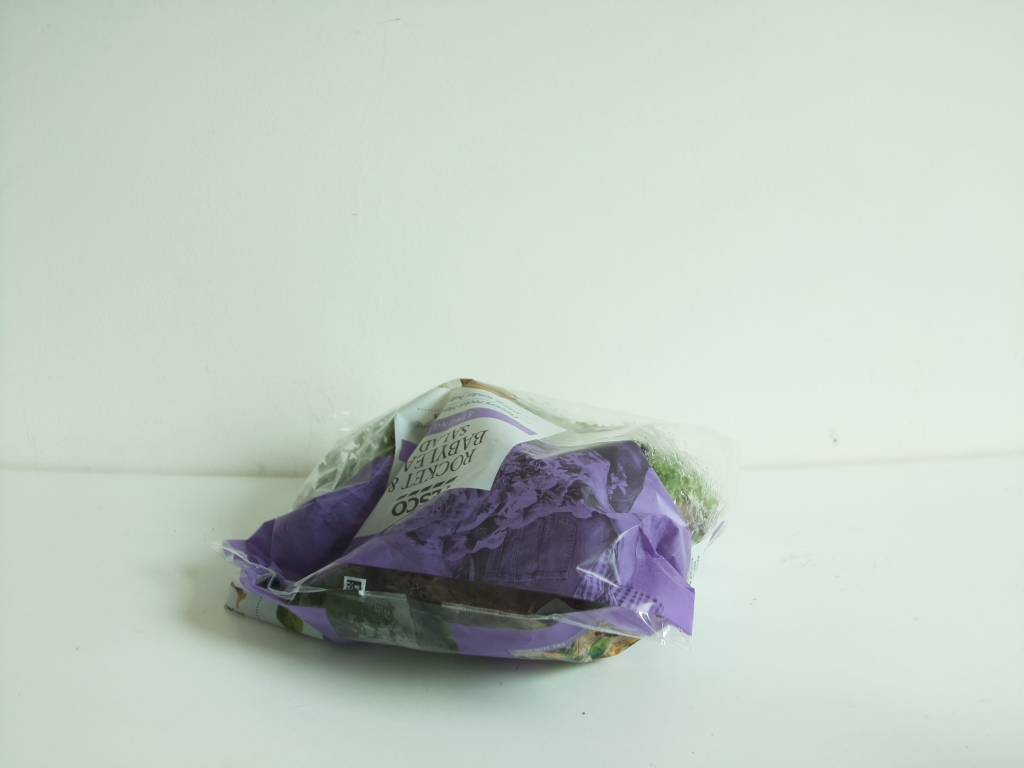salad: (212, 368, 726, 666)
